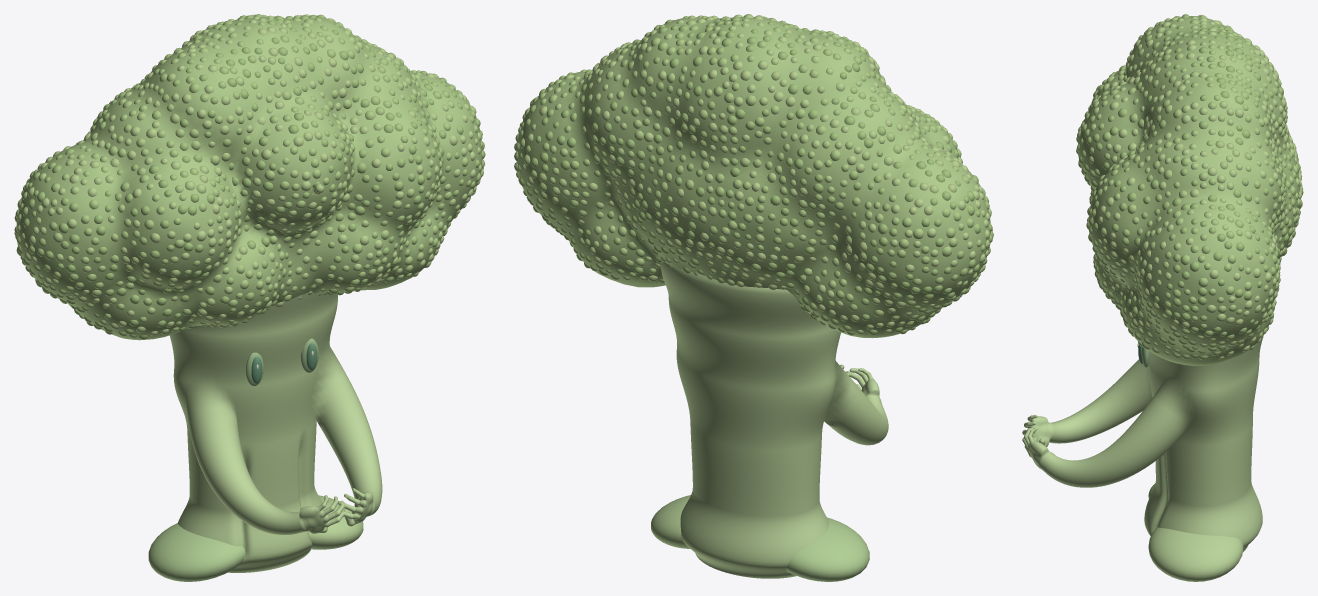
File: gobhi-front-phone.glb
3 views of the same model, side by side, from view 1: azimuth 30°, elevation 25°; view 2: azimuth 150°, elevation 25°; view 3: azimuth 270°, elevation 25° (orthographic). The views are drawn at different scales.
Visible parts, largest first — view 1: crown, stem, florets-c, florets-b, florets-a, arm-left, arm-right, root-left, root-right; view 2: crown, stem, florets-b, florets-c, florets-a, arm-left, root-left, root-right; view 3: crown, stem, florets-b, florets-a, florets-c, arm-right, arm-left, root-right.
Part boxes in pixels (left/top/right/bottom): crown: left=16, top=16, right=482, bottom=340; stem: left=169, top=292, right=337, bottom=572; florets-c: left=14, top=14, right=482, bottom=338; florets-b: left=14, top=14, right=484, bottom=336; florets-a: left=14, top=14, right=485, bottom=339; arm-left: left=186, top=377, right=344, bottom=534; arm-right: left=311, top=345, right=382, bottom=526; root-left: left=148, top=523, right=245, bottom=581; root-right: left=308, top=495, right=363, bottom=549; crown: left=517, top=16, right=990, bottom=338; stem: left=661, top=262, right=840, bottom=578; florets-b: left=515, top=14, right=990, bottom=335; florets-c: left=514, top=14, right=992, bottom=334; florets-a: left=514, top=15, right=993, bottom=335; arm-left: left=824, top=360, right=888, bottom=445; root-left: left=786, top=517, right=869, bottom=581; root-right: left=651, top=495, right=690, bottom=548; crown: left=1078, top=16, right=1300, bottom=366; stem: left=1144, top=262, right=1280, bottom=551; florets-b: left=1077, top=14, right=1302, bottom=360; florets-a: left=1079, top=15, right=1303, bottom=358; florets-c: left=1076, top=14, right=1302, bottom=355; arm-right: left=1022, top=376, right=1194, bottom=487; arm-left: left=1022, top=359, right=1152, bottom=447; root-right: left=1148, top=526, right=1243, bottom=581.
Bounding box in the file's own units: 2.3 × 2.58 × 1.3.
